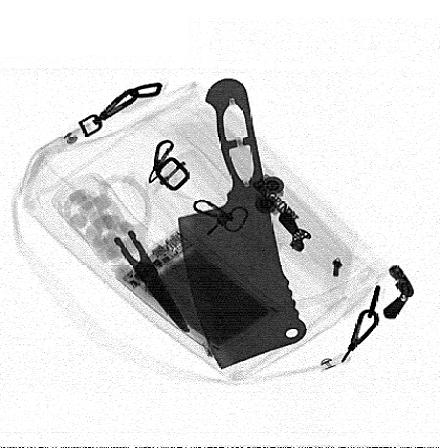Knife: (176, 78, 310, 371)
Powerbank: (112, 221, 284, 356)
Scissors: (64, 175, 195, 336)
